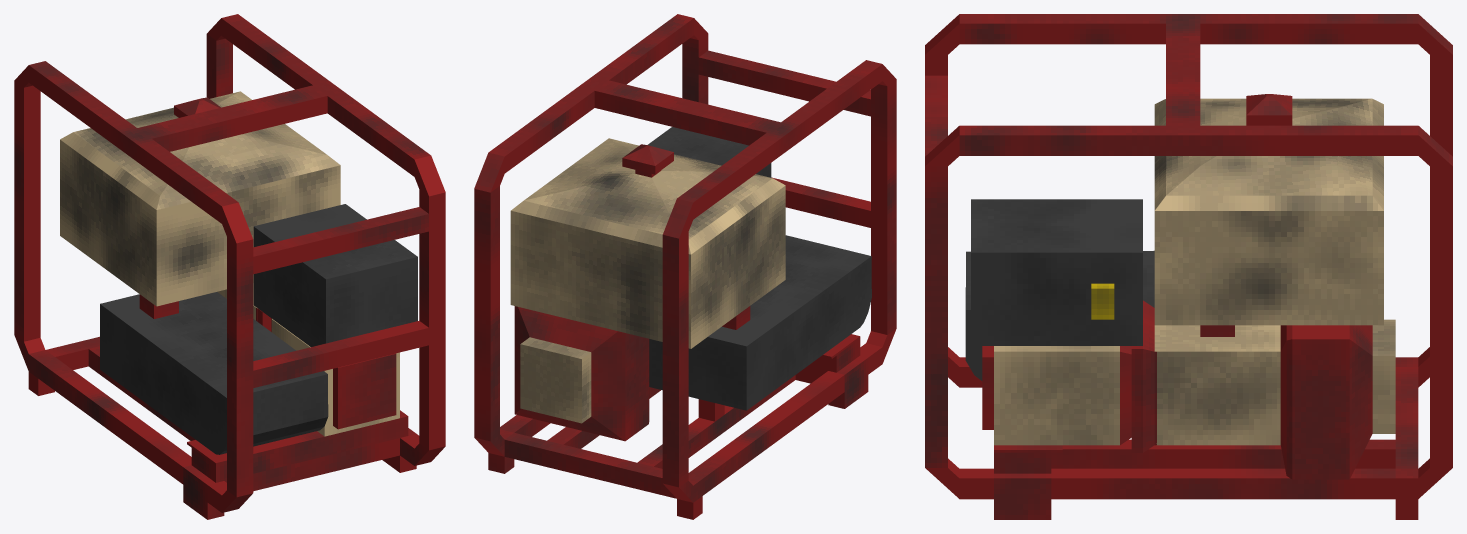
File: backup generator.gltf
3 views of the same model, side by side, from view 1: azimuth 30°, elevation 25°; view 2: azimuth 150°, elevation 25°; view 3: azimuth 270°, elevation 25° (orthographic). The views are drawn at different scales.
Parts seen in each view (by area): view 1: cuboid; view 2: cuboid; view 3: cuboid.
Part boxes in pixels (x1,y1,x2,y2): cuboid: (14, 14, 445, 519); cuboid: (474, 14, 896, 519); cuboid: (925, 14, 1452, 519).
Bounding box in the file's own units: 1.58 × 2.31 × 2.88.
1 material, 1 textured.
